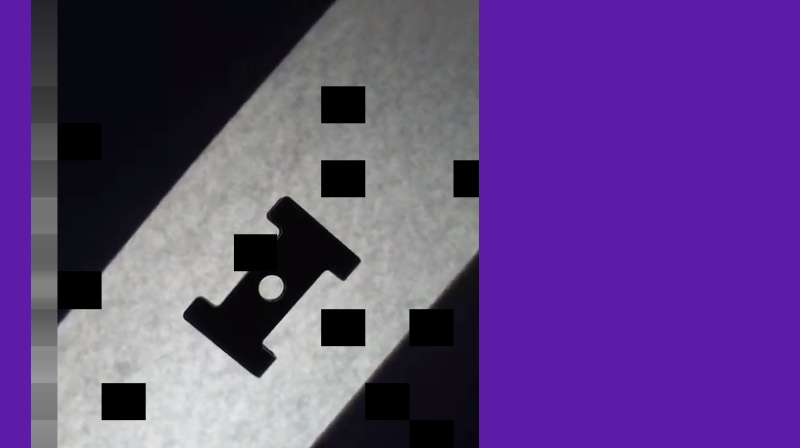O002: (179, 192, 365, 378)
